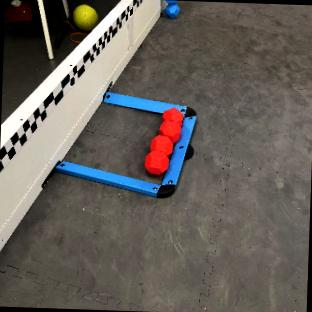V5_BLUE: (165, 0, 178, 17)
V5_RED: (146, 108, 183, 175)
